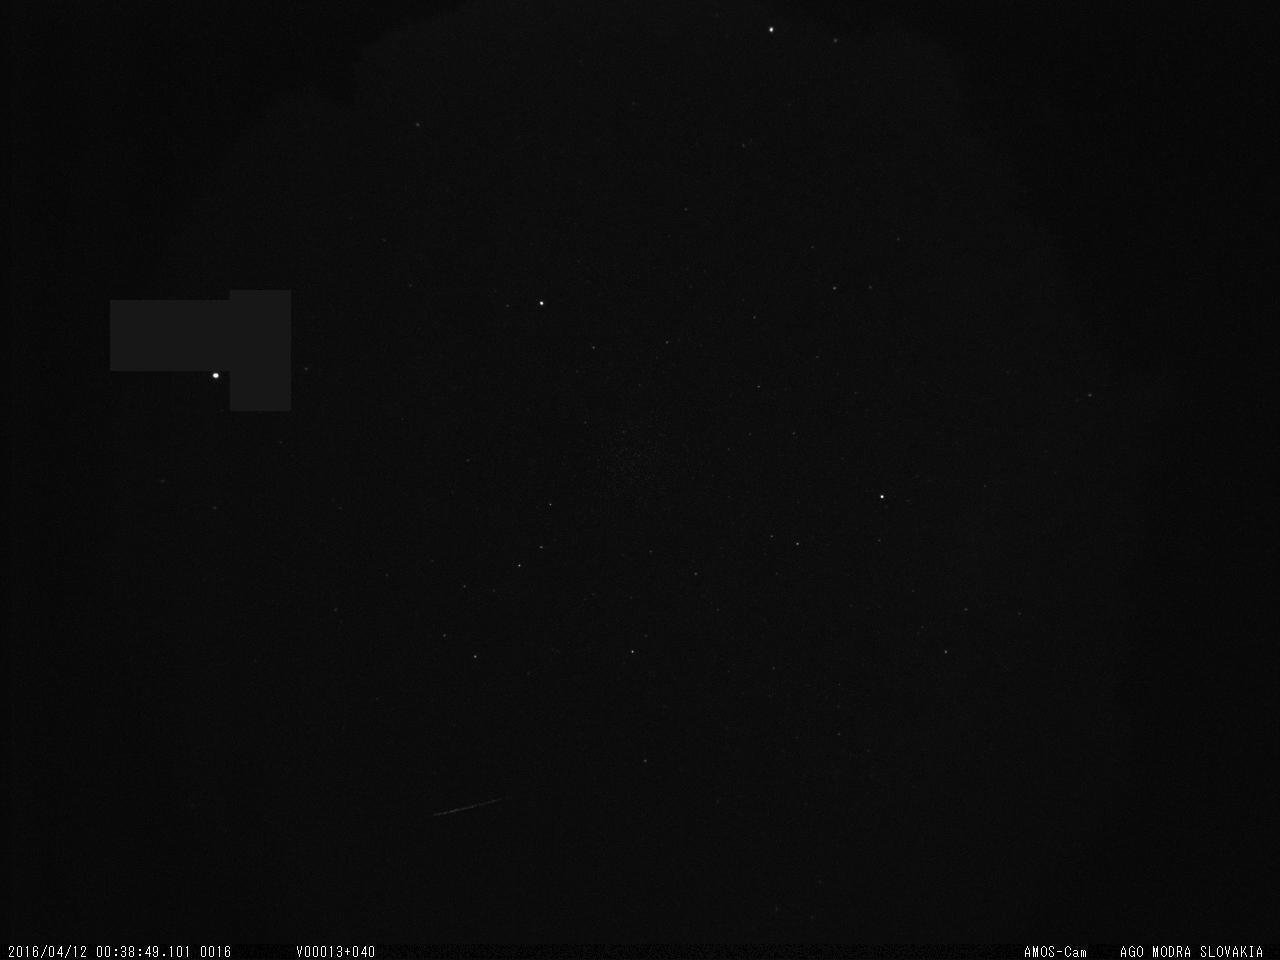meteor: (412, 787, 533, 832)
